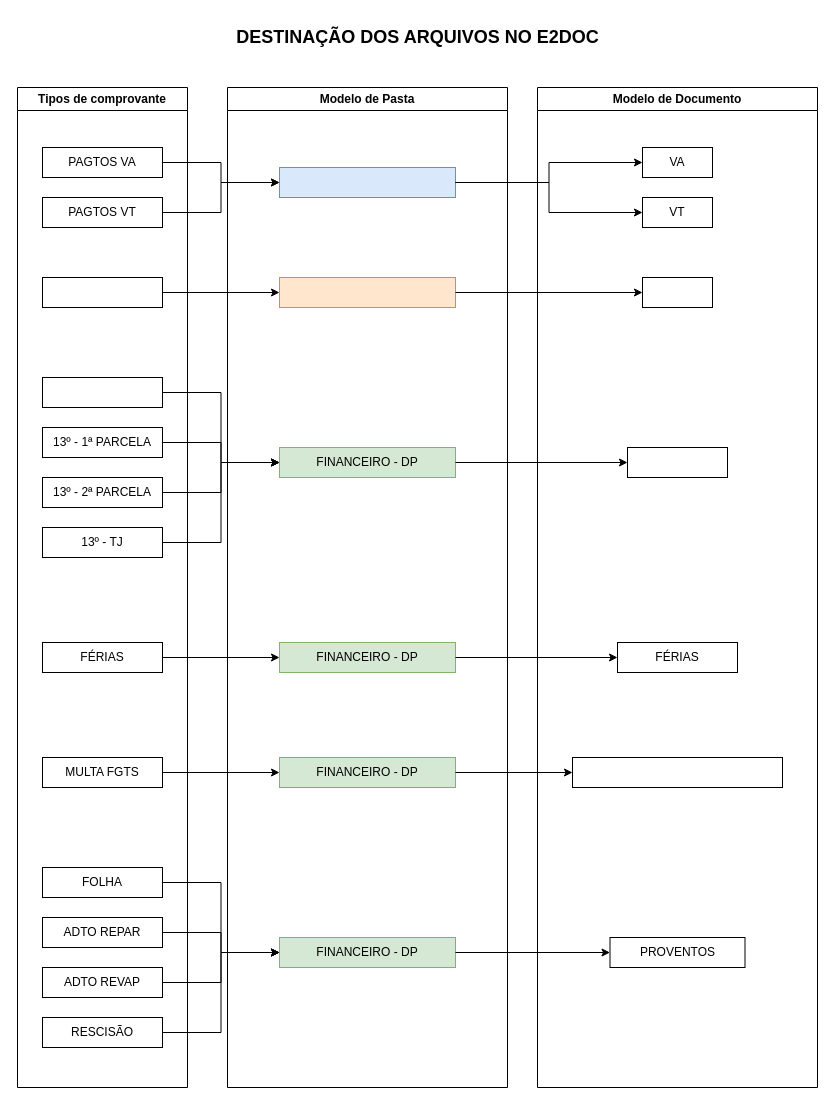
This 835x1105 diagram has some shape labels left out. Each missing label, with the centre of its shape:
13 SALARIO: pixel 677 462
ADTO. 13º: pixel 102 392
FINANCEIRO - BENEFICIOS: pixel 367 182
FINANCEIRO - FROTA: pixel 367 292
LOCAÇÃO: pixel 677 292
LOCAÇÃO VEIC.: pixel 102 292
MULTA DE FGTS RESCISÓRIA: pixel 677 772
